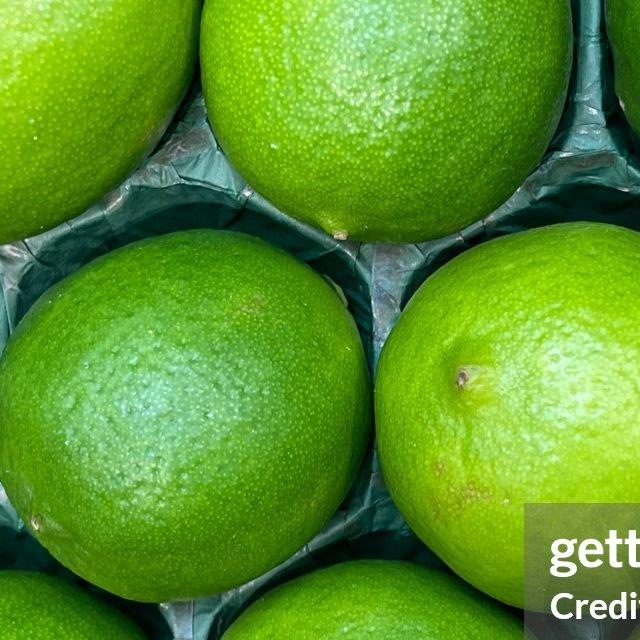lime: (196, 0, 584, 248)
